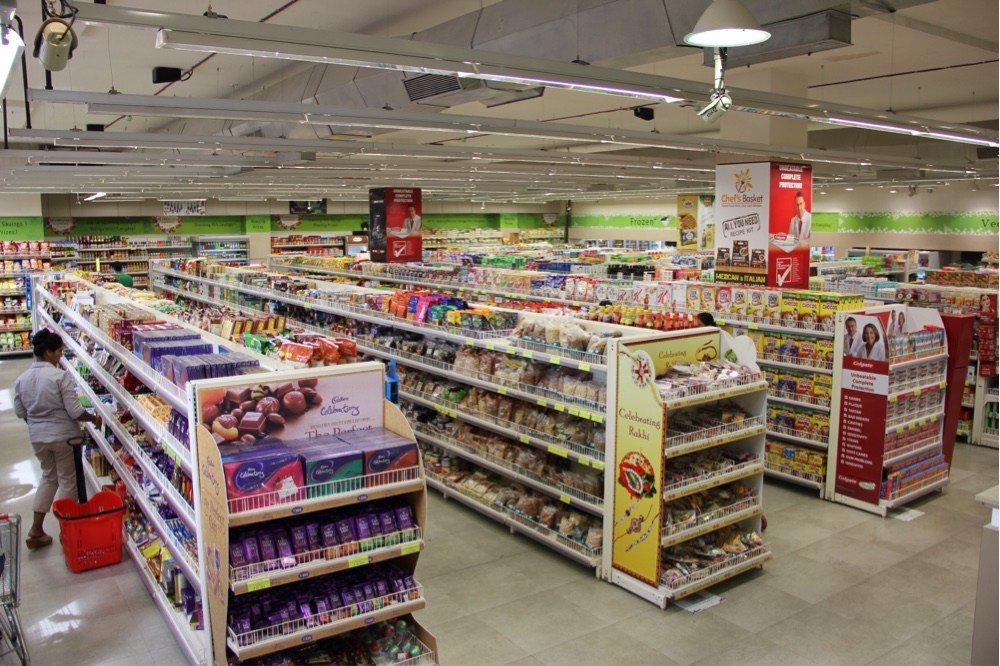Age_20_30: (31, 329, 68, 365)
E_Indian: (31, 329, 68, 365)
Emotion_Neutral: (31, 329, 68, 365)
G_ Female: (31, 329, 68, 365)
